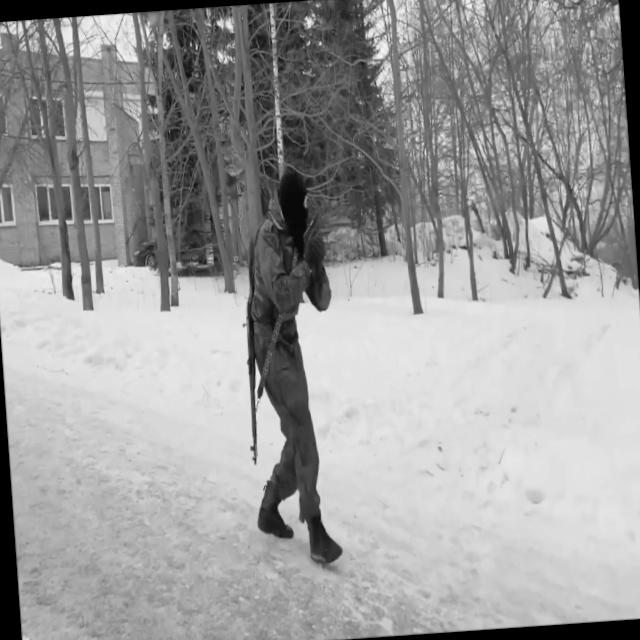gun: (234, 232, 274, 470), (297, 206, 328, 256)
person with a gun: (229, 158, 351, 570)
